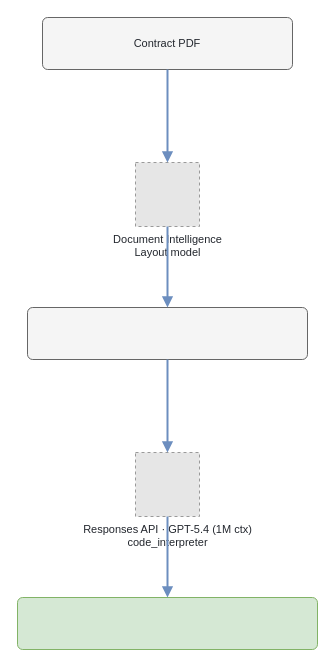
This 335x667 diagram has some shape labels left out. Grey dashed boxes stand in for pictures. The box of each missing label's shape, as (x1, y1, x2, y2) in pixels:
Clean structured text (markdown): (26, 306, 308, 360)
Outputs risk_analysis.md · risk_table.csv: (16, 596, 318, 650)
